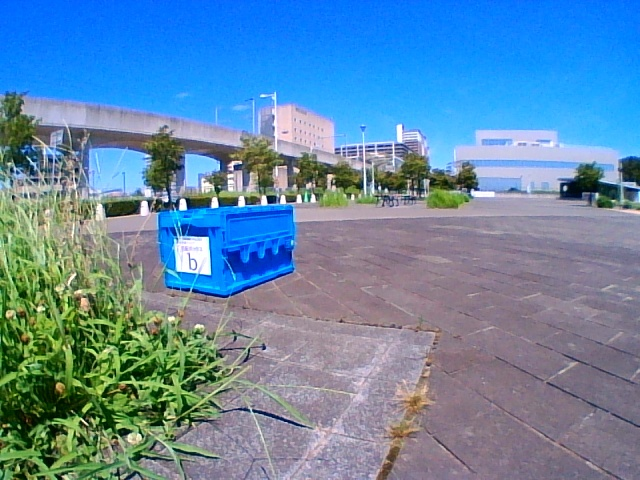blue_box: (168, 212, 293, 273)
tag_b: (175, 238, 210, 273)
